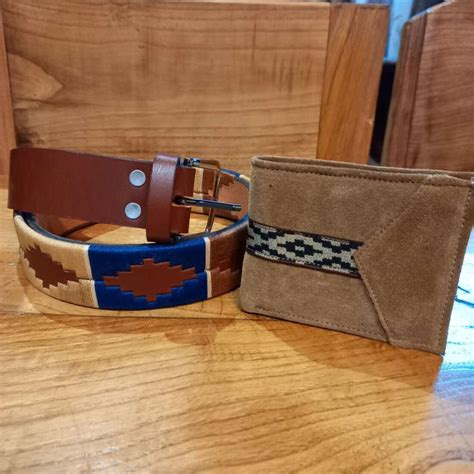gamuza: (238, 149, 474, 357)
